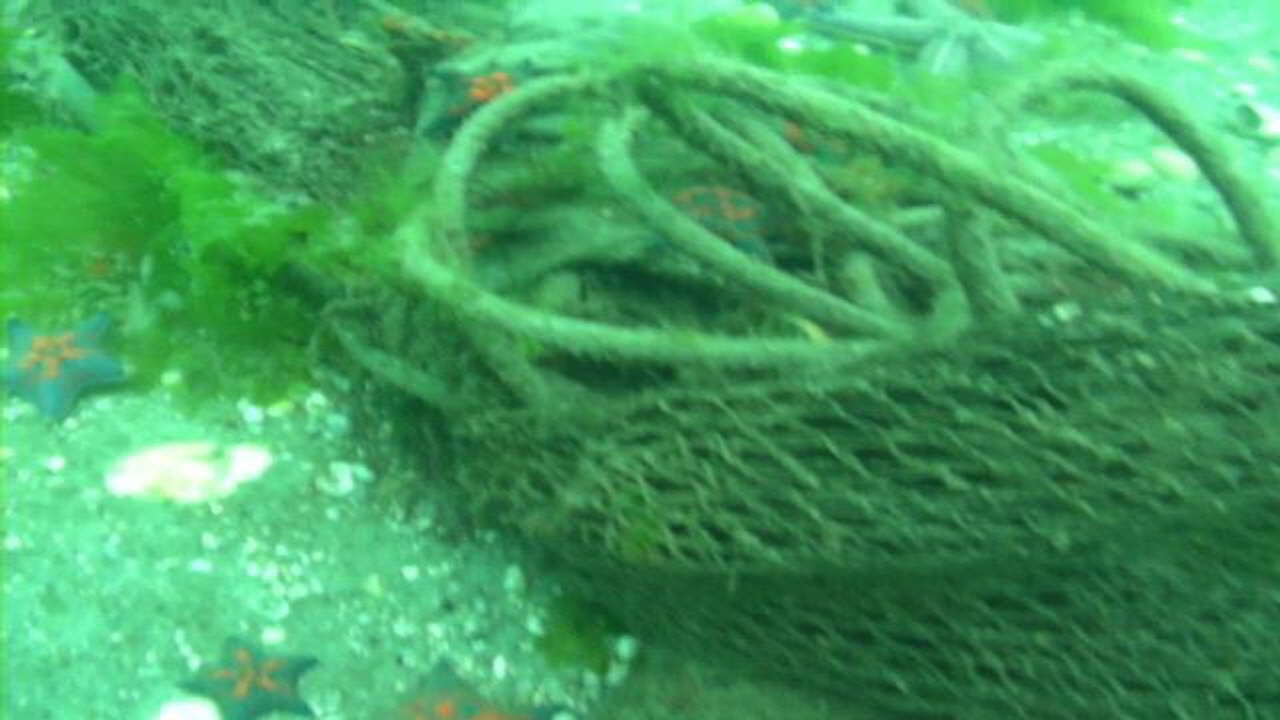bundle of ropes: (380, 62, 1280, 407)
fish net: (444, 299, 1280, 720)
